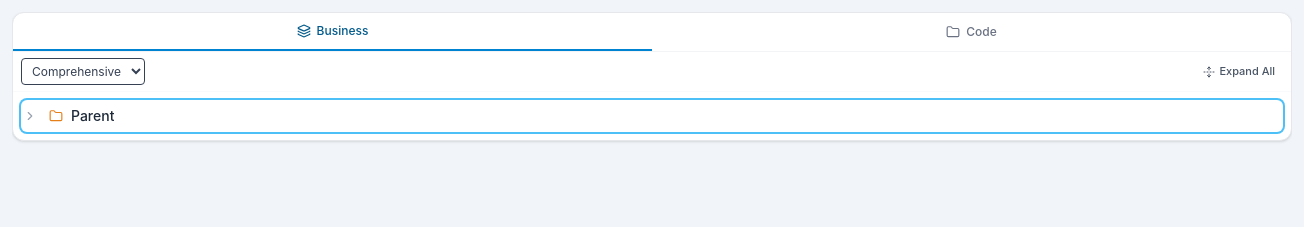
it: WikiTreeNav keyboard navigation › ArrowLeft collapses an expanded node
The image size is (1304, 227).
Click the button named "Expand" at (30, 116), box [21, 107, 39, 125]
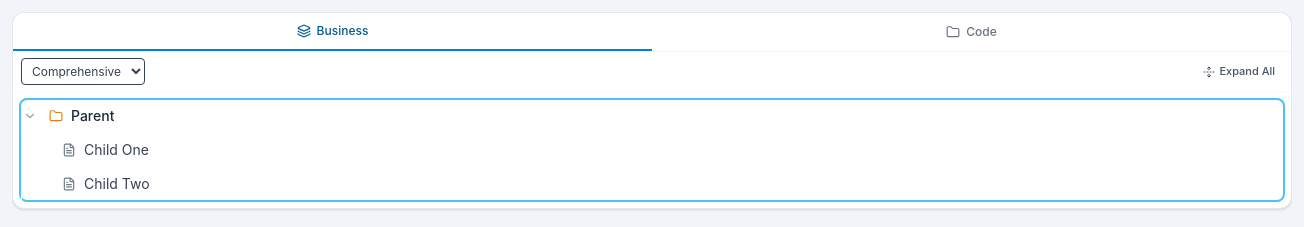
Result: the text "Child One" is shown at [84, 140, 149, 160]
Press ArrowLeft in the list, box [21, 100, 1283, 200]
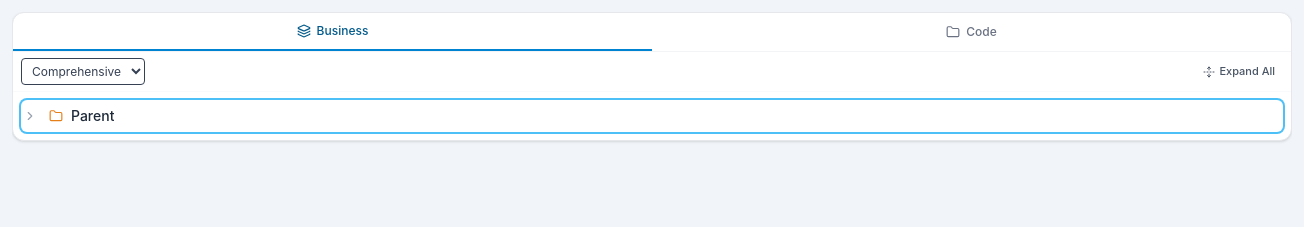
Result: the link "Child One" is gone
